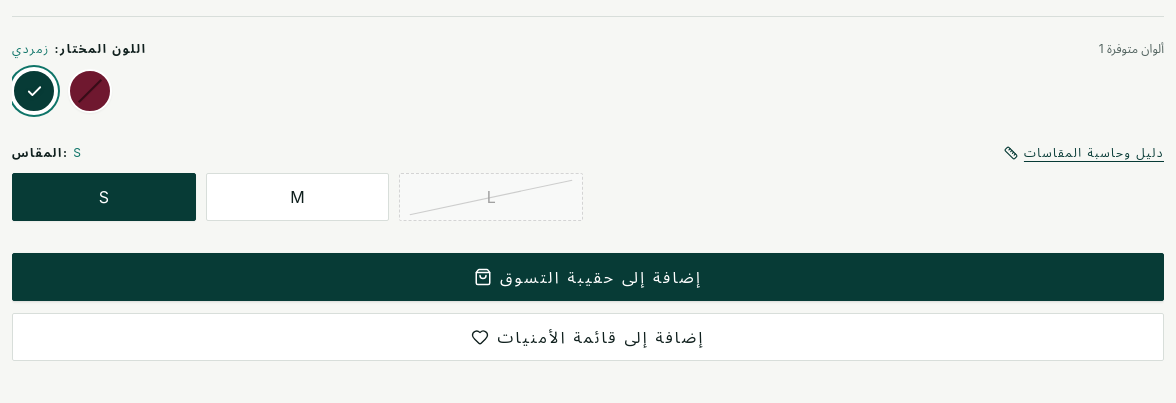
Test case: PDP Back-In-Stock Notification UX › supports sold-out colour swatches and Arabic RTL locale
Clicking burgundy switches color and displays Arabic notify button
Click the radio button named "نبيتي (نفد المخزون)" at (90, 91), box x1=68 y1=69 x2=112 y2=113
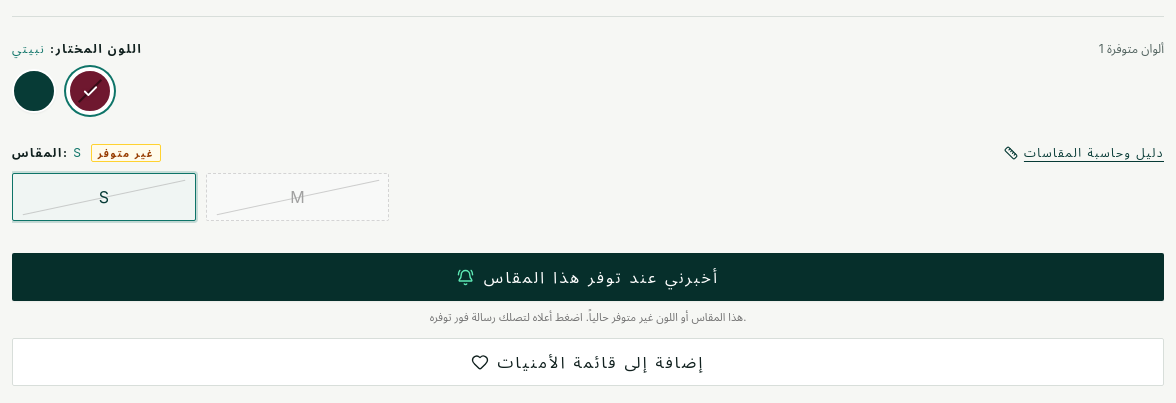
Expected: the button "أخبرني عند توفر هذا المقاس" is shown, x1=12 y1=253 x2=1164 y2=301
